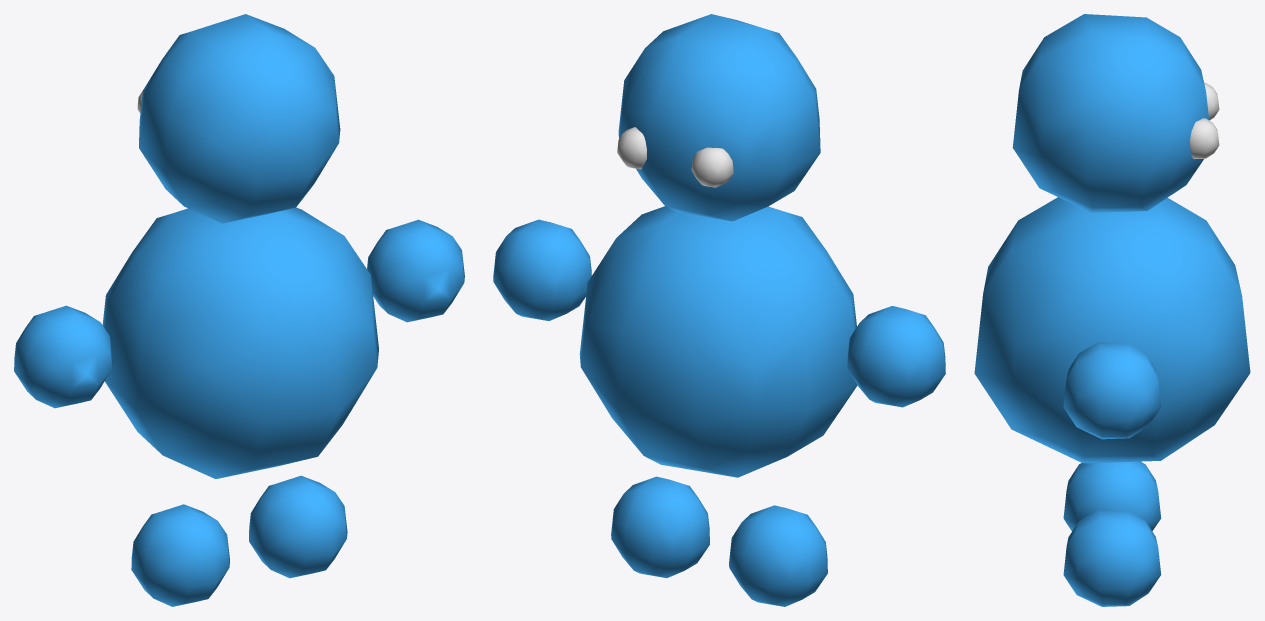
Rendered from Suspect_Base_Model.fbx.
The picture shows the model from 3 angles, left to right: view 1: azimuth 30°, elevation 25°; view 2: azimuth 150°, elevation 25°; view 3: azimuth 270°, elevation 25°; orthographic projection.
Parts seen in each view (by area): view 1: Body, Hands; view 2: Body, Hands, Eyes; view 3: Body, Hands, Eyes.
Boxes of the visible parts, x1,y1,x2,y2 form: Body: [102, 14, 378, 606]; Hands: [14, 219, 464, 408]; Body: [579, 14, 857, 606]; Hands: [493, 219, 945, 407]; Eyes: [617, 127, 733, 187]; Body: [974, 14, 1250, 606]; Hands: [1063, 342, 1160, 439]; Eyes: [1190, 82, 1219, 158].
Bounding box in the file's own units: 2.06 × 3.73 × 4.54.
